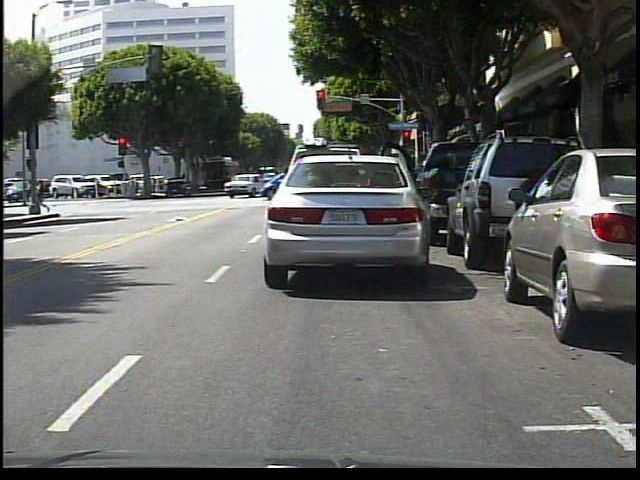person: (28, 180, 53, 218)
